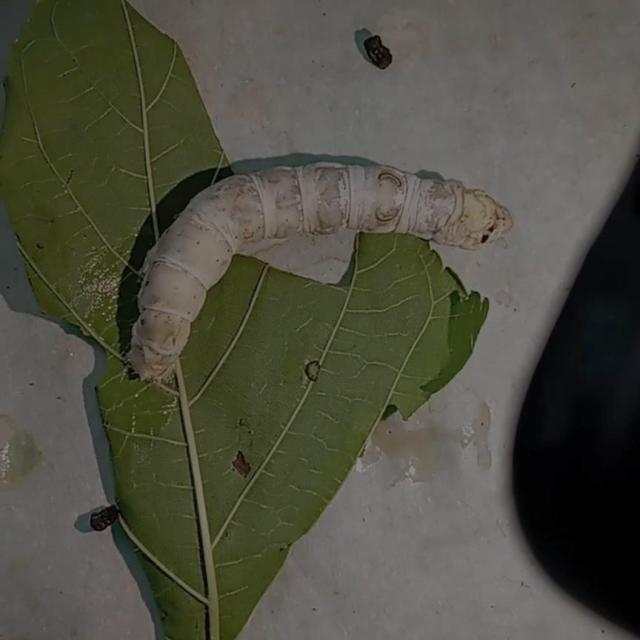Grasserie: (104, 125, 526, 404)
